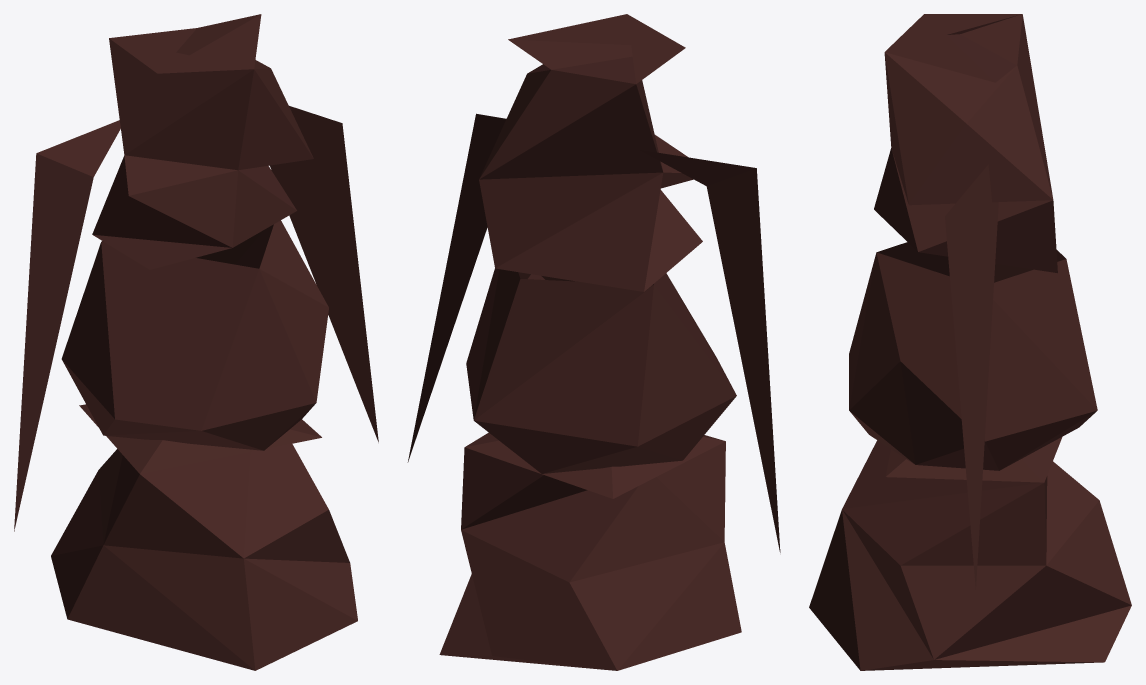
The model's file is oil-lantern.lod2.glb.
The picture shows the model from 3 angles, left to right: view 1: azimuth 30°, elevation 25°; view 2: azimuth 150°, elevation 25°; view 3: azimuth 270°, elevation 25°; orthographic projection. The views are drawn at different scales.
Visible parts, largest first — view 1: Cylinder.005_Material.001_0; view 2: Cylinder.005_Material.001_0; view 3: Cylinder.005_Material.001_0.
Boxes of the visible parts, x1,y1,x2,y2 form: Cylinder.005_Material.001_0: (14,14,378,670); Cylinder.005_Material.001_0: (407,14,780,670); Cylinder.005_Material.001_0: (809,14,1131,670).
Bounding box in the file's own units: 0.2636 × 0.3905 × 0.1994.
